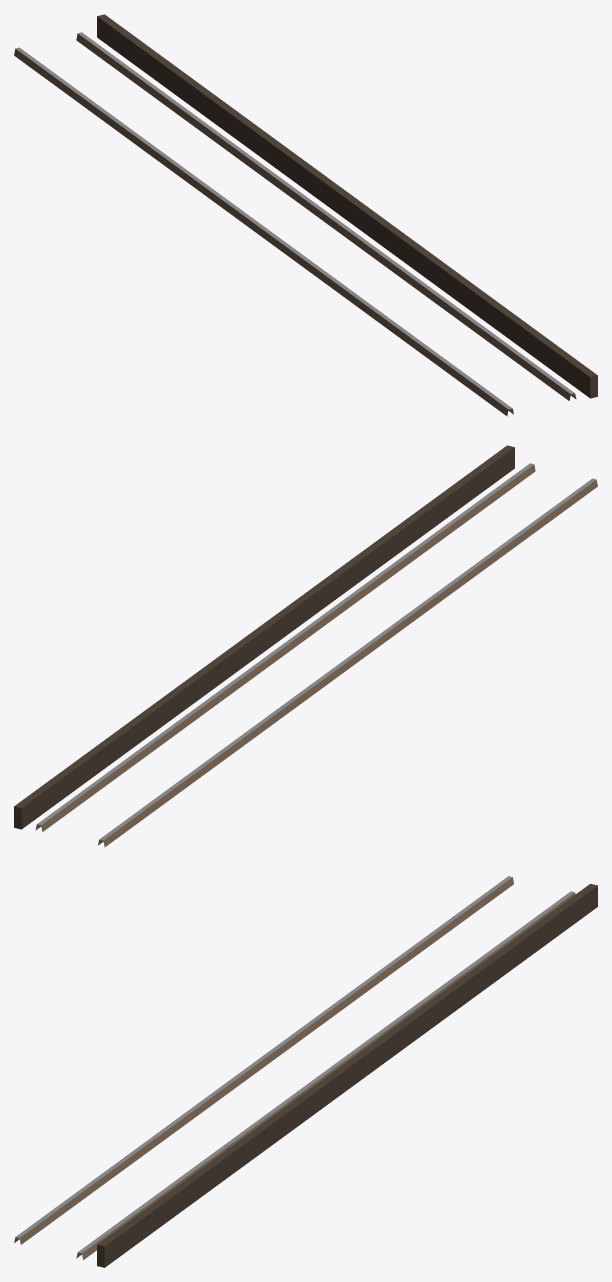
File: SW_ENV_TrackStraight_20m_Collision.fbx
3 views of the same model, one above another, from view 1: azimuth 30°, elevation 25°; view 2: azimuth 150°, elevation 25°; view 3: azimuth 330°, elevation 25° (orthographic).
Parts seen in each view (by area): view 1: SW_ENV_TrackStraight_20m_Collision; view 2: SW_ENV_TrackStraight_20m_Collision; view 3: SW_ENV_TrackStraight_20m_Collision.
Part boxes in pixels (x1,y1,x2,y2): SW_ENV_TrackStraight_20m_Collision: (14, 14, 597, 416); SW_ENV_TrackStraight_20m_Collision: (14, 445, 597, 847); SW_ENV_TrackStraight_20m_Collision: (14, 876, 597, 1267).
Size of the model in its own units: 212 by 47.71 by 2000.
